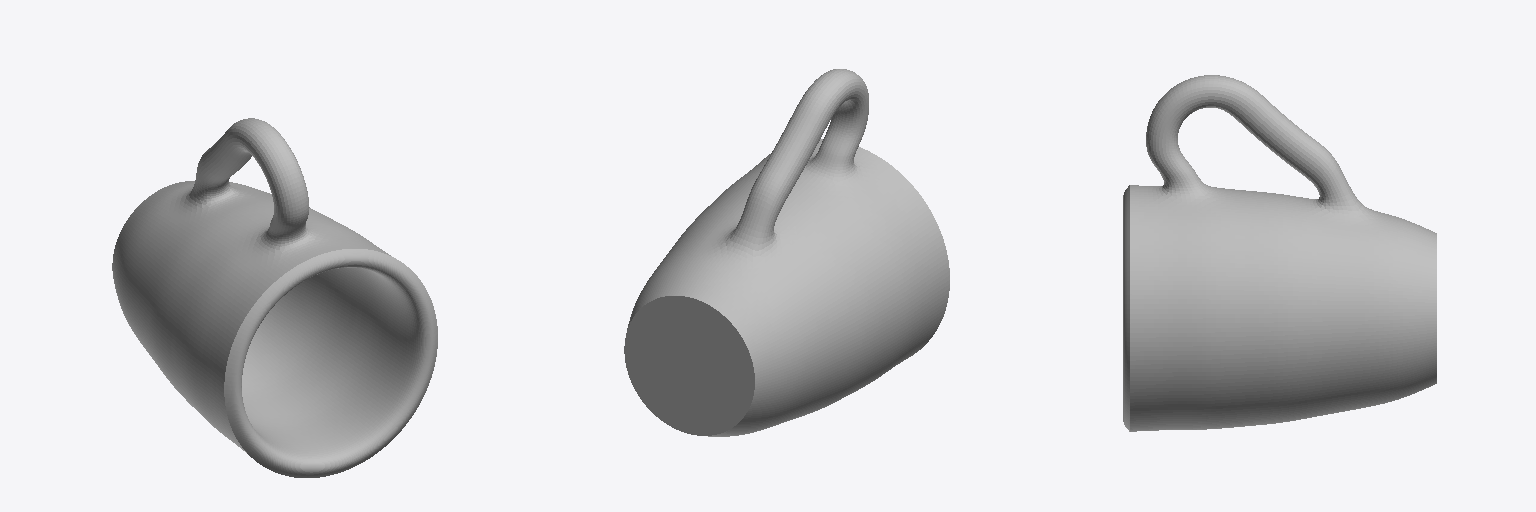
The model's file is cup.obj.
3 views of the same model, side by side, from view 1: azimuth 30°, elevation 25°; view 2: azimuth 150°, elevation 25°; view 3: azimuth 270°, elevation 25° (orthographic).
Parts seen in each view (by area): view 1: Cylinder; view 2: Cylinder; view 3: Cylinder.
Part boxes in pixels (x1,y1,x2,y2): Cylinder: (112, 118, 437, 477); Cylinder: (624, 69, 949, 436); Cylinder: (1123, 75, 1436, 431).
Size of the model in its own units: 83.55 by 123 by 106.